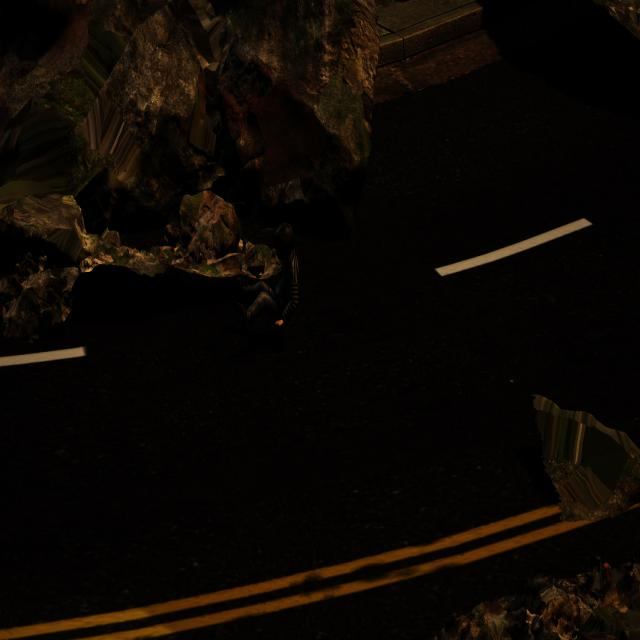Human: (232, 220, 303, 348)
